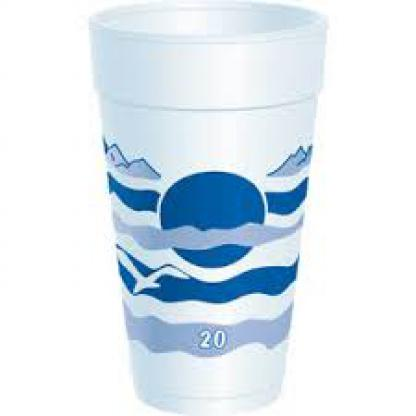paper: (89, 0, 322, 414)
